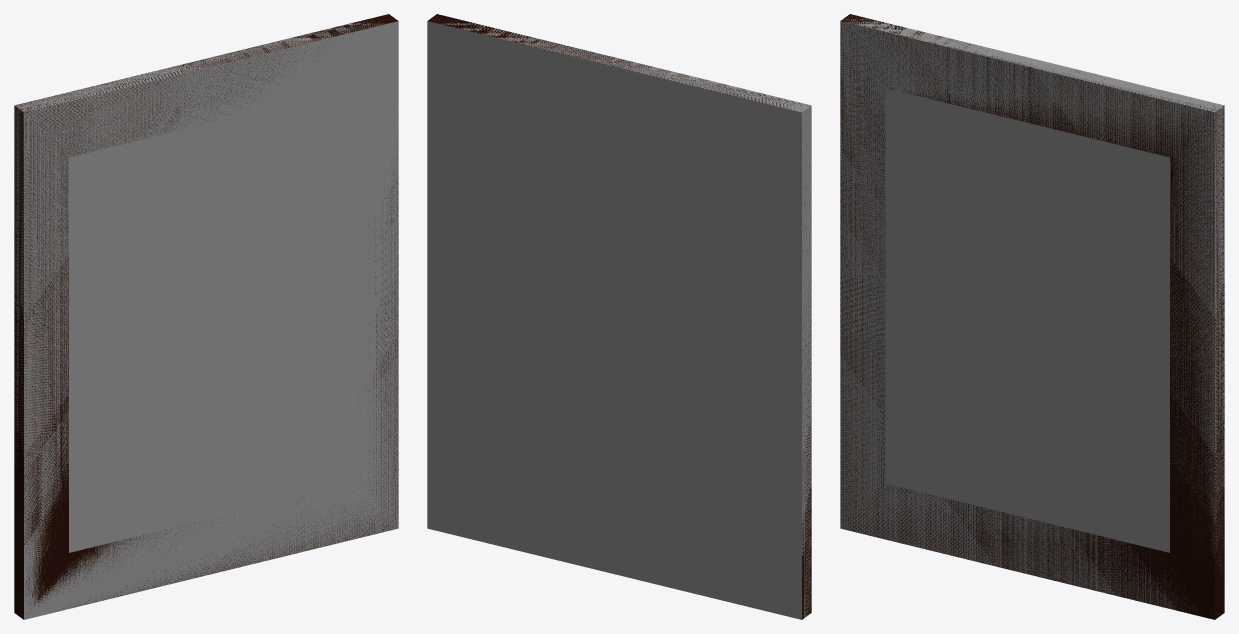
Rendered from picture_01.FBX.
The picture shows the model from 3 angles, left to right: view 1: azimuth 30°, elevation 25°; view 2: azimuth 150°, elevation 25°; view 3: azimuth 330°, elevation 25°; orthographic projection.
Visible parts, largest first — view 1: bounds, painting_one100; view 2: bounds, painting_one100; view 3: bounds, painting_one100.
Part boxes in pixels (bbox=[...]): bounds: bbox=[14, 18, 398, 619]; painting_one100: bbox=[14, 14, 398, 619]; bounds: bbox=[427, 19, 811, 619]; painting_one100: bbox=[428, 14, 811, 619]; bounds: bbox=[840, 16, 1224, 615]; painting_one100: bbox=[840, 14, 1224, 619].
Bounding box in the file's own units: 85.37 × 111 × 3.82.
